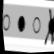correct: (14, 12, 29, 36)
no answer: (30, 15, 43, 36), (1, 12, 13, 33)
not correct: (40, 6, 54, 47)
